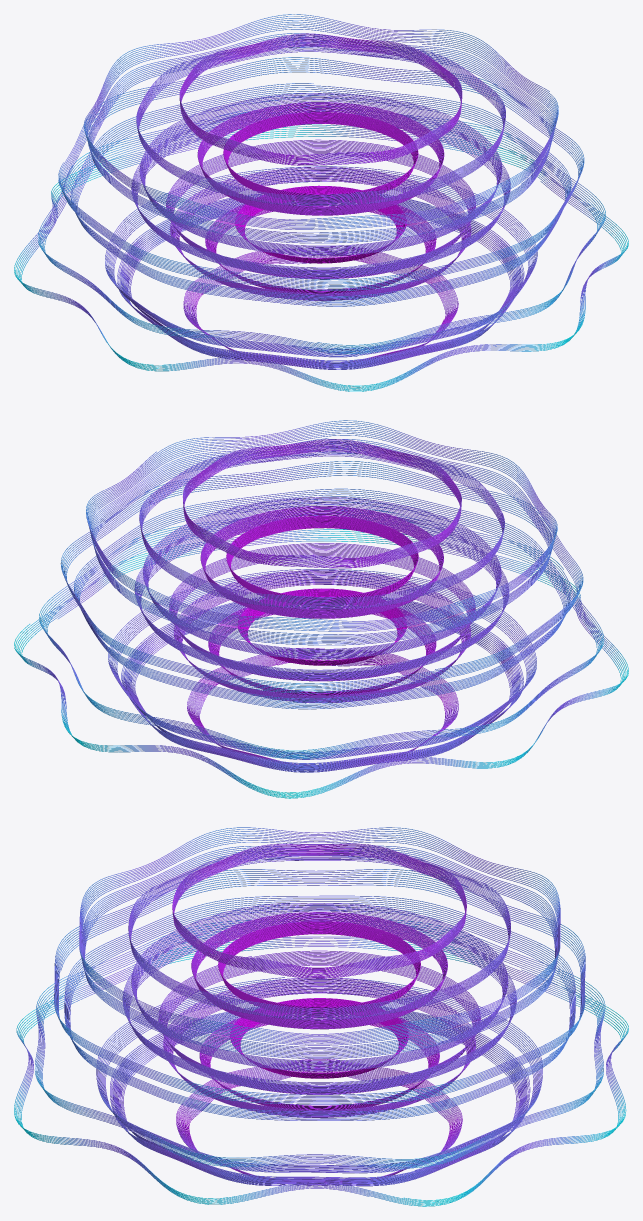
The model's file is coil_8_field_lines.gltf.
3 views of the same model, one above another, from view 1: azimuth 30°, elevation 25°; view 2: azimuth 150°, elevation 25°; view 3: azimuth 270°, elevation 25° (orthographic). The views are drawn at different scales.
Visible parts, largest first — view 1: Renderer Node; view 2: Renderer Node; view 3: Renderer Node.
Part boxes in pixels (bbox=[...]): Renderer Node: bbox=[14, 14, 628, 391]; Renderer Node: bbox=[14, 420, 628, 798]; Renderer Node: bbox=[14, 827, 628, 1206].
Bounding box in the file's own units: 1.1 × 0.4631 × 1.11.
Materials: 1 (1 with a texture image).
